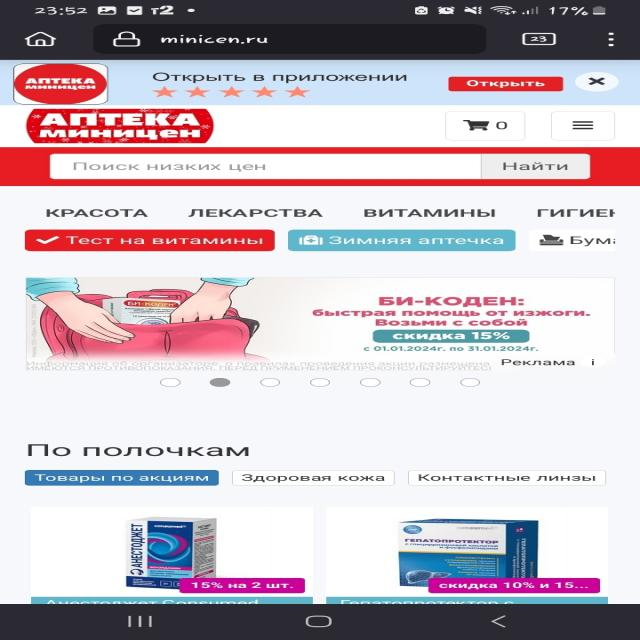button: (444, 77, 564, 91), (569, 73, 627, 92)
site: (0, 59, 640, 106)
